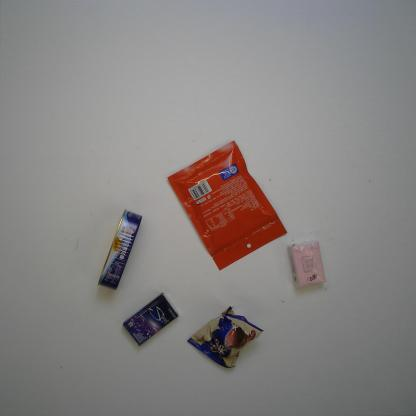Canned Food: (98, 209, 142, 291)
Dessert: (187, 304, 264, 368)
Dried Fruit: (167, 140, 288, 272)
Gum: (122, 292, 178, 347)
Tissue: (288, 240, 326, 289)
